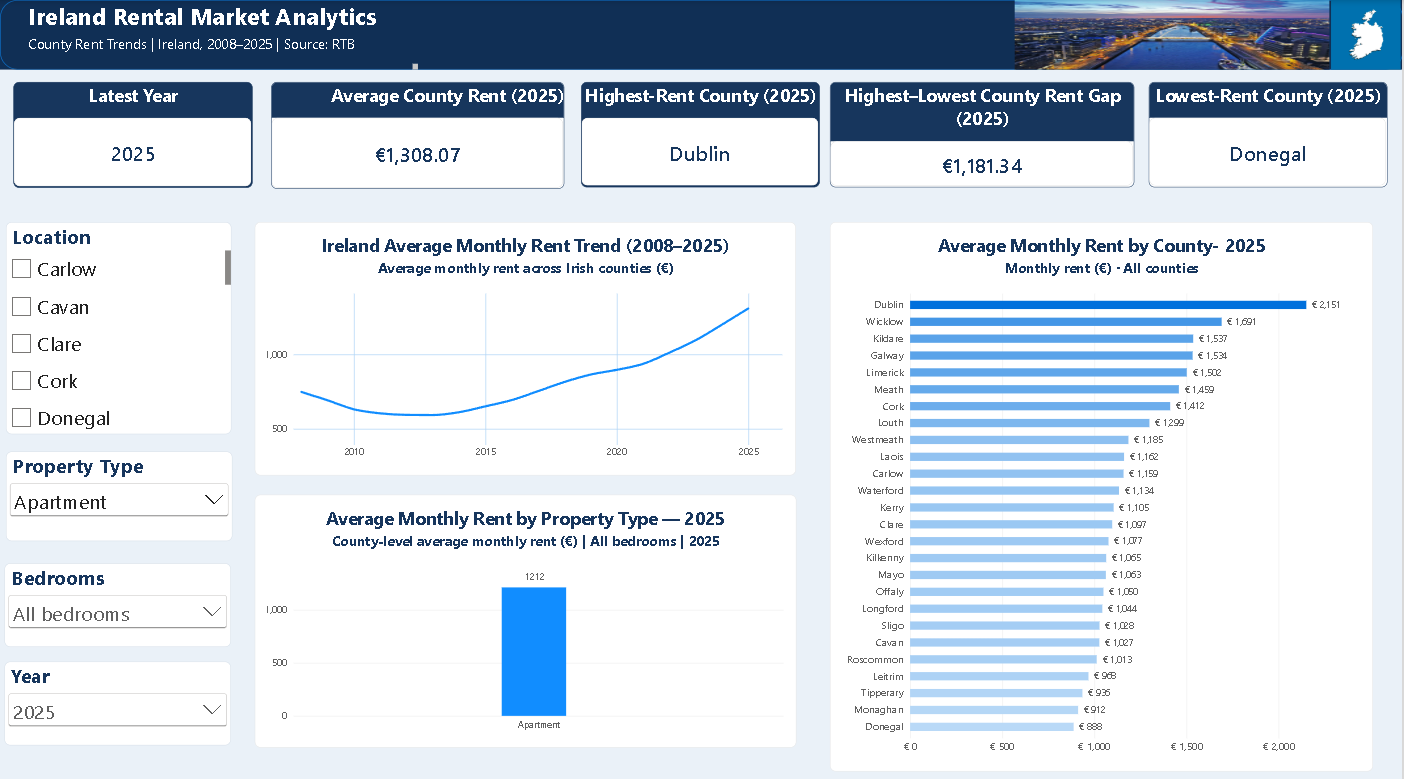

The page's visual inventory and layout, read from the dashboard file:
{"tool":"powerbi","page":{"name":"Page 1","canvas":[1920,1080],"ordinal":0},"visuals":[{"type":"shape","box":[0,0,1921,95.4],"z":0},{"type":"cardVisual","title":"Latest Year","fields":{"Data":["Ireland_Rental_Market.Latest Year Display","Ireland_Rental_Market.Latest Year Display"]},"box":[18,112.7,327.8,144.9],"z":1000},{"type":"lineChart","title":"Ireland Average Monthly Rent Trend (2008–2025)","fields":{"Category":["Ireland_Rental_Market.Year"],"Y":["Ireland_Rental_Market.Average Rent - All Categories (€)"]},"box":[348.1,304.3,741,346.8],"z":2000},{"type":"slicer","fields":{"Values":["Ireland_Rental_Market.Location"]},"box":[9,304.2,308.7,290.7],"z":3000},{"type":"cardVisual","title":"Average County Rent (2025)","fields":{"Data":["Ireland_Rental_Market.County Rent Display"]},"box":[371.8,112.7,401.1,146.5],"z":4000},{"type":"clusteredBarChart","title":"Average Monthly Rent by County- 2025","fields":{"Category":["Ireland_Rental_Market.Location"],"Y":["Ireland_Rental_Market.Selected Property Rent (€)"]},"box":[1135.6,304.2,743.5,752.6],"z":5000},{"type":"cardVisual","title":"Highest-Rent County (2025)","fields":{"Data":["Ireland_Rental_Market.Highest Rent County (2025)"]},"box":[795.4,112.7,326.7,144],"z":6000},{"type":"cardVisual","title":"Lowest-Rent County (2025)","fields":{"Data":["Ireland_Rental_Market.Lowest-Rent County (2025)"]},"box":[1572.7,112.7,326.7,144],"z":7000},{"type":"slicer","fields":{"Values":["Ireland_Rental_Market.Property Type"]},"box":[9,617.4,310.4,123],"z":8000},{"type":"slicer","fields":{"Values":["Ireland_Rental_Market.Bedrooms"]},"box":[6.8,770.6,310.4,114.7],"z":9000},{"type":"cardVisual","title":"Highest–Lowest County Rent Gap (2025)","fields":{"Data":["Ireland_Rental_Market.Rent Gap Display"]},"box":[1135.6,112.7,416.8,144],"z":10000},{"type":"textbox","title":"Ireland Rental Market Analytics","box":[38.3,0,533.8,95.4],"z":11000},{"type":"slicer","fields":{"Values":["Ireland_Rental_Market.Year"]},"box":[6.8,905.8,310.4,114.7],"z":12000},{"type":"clusteredColumnChart","title":"Average Monthly Rent by Property Type — 2025","fields":{"Category":["Ireland_Rental_Market.Property Type"],"Y":["Ireland_Rental_Market.Rent by Property Type (2025)"]},"box":[348,678.2,741.3,346],"z":13000},{"type":"image","box":[1820.5,0,100.6,95.4],"z":14000},{"type":"image","box":[1389.9,0,430.6,95.4],"z":15000}]}

Visuals, with their boxes in screenshot pixels (x1, y1, x2, y2), scaled from the page's 1920x1080 canvas onto the 1404x779 screenshot:
shape: <bbox>0, 0, 1403, 69</bbox>
"Latest Year" cardVisual: <bbox>13, 81, 253, 186</bbox>
"Ireland Average Monthly Rent Trend (2008–2025)" lineChart: <bbox>255, 219, 796, 470</bbox>
slicer - Ireland_Rental_Market.Location: <bbox>7, 219, 232, 429</bbox>
"Average County Rent (2025)" cardVisual: <bbox>272, 81, 565, 187</bbox>
"Average Monthly Rent by County- 2025" clusteredBarChart: <bbox>830, 219, 1374, 762</bbox>
"Highest-Rent County (2025)" cardVisual: <bbox>582, 81, 821, 185</bbox>
"Lowest-Rent County (2025)" cardVisual: <bbox>1150, 81, 1389, 185</bbox>
slicer - Ireland_Rental_Market.Property Type: <bbox>7, 445, 234, 534</bbox>
slicer - Ireland_Rental_Market.Bedrooms: <bbox>5, 556, 232, 639</bbox>
"Highest–Lowest County Rent Gap (2025)" cardVisual: <bbox>830, 81, 1135, 185</bbox>
"Ireland Rental Market Analytics" textbox: <bbox>28, 0, 418, 69</bbox>
slicer - Ireland_Rental_Market.Year: <bbox>5, 653, 232, 736</bbox>
"Average Monthly Rent by Property Type — 2025" clusteredColumnChart: <bbox>254, 489, 797, 739</bbox>
image: <bbox>1331, 0, 1403, 69</bbox>
image: <bbox>1016, 0, 1331, 69</bbox>
